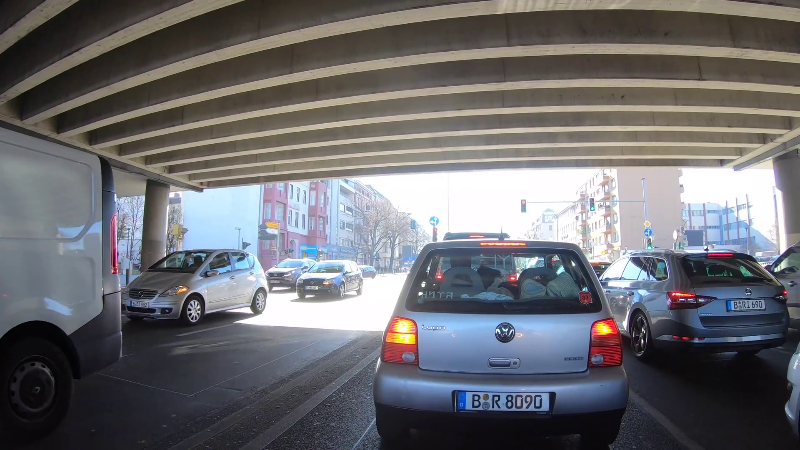Plate: (452, 387, 554, 412), (724, 296, 770, 313), (128, 300, 152, 310)
